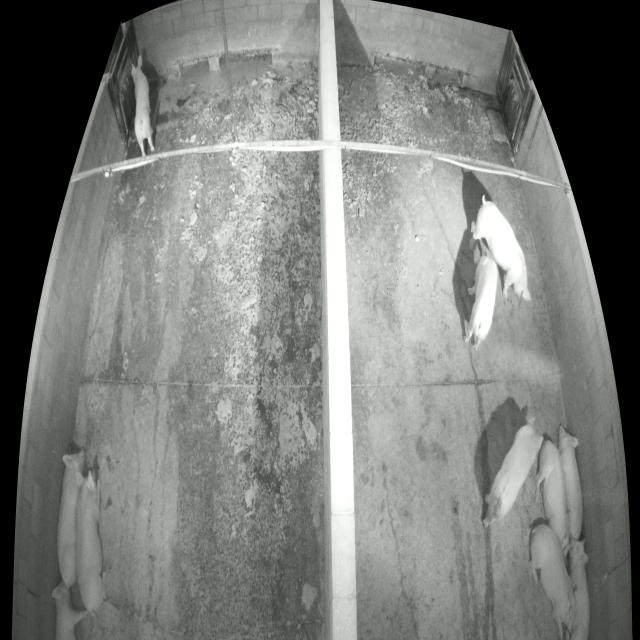pig: (482, 417, 544, 529), (470, 201, 532, 300), (529, 526, 579, 639), (75, 471, 106, 612), (534, 440, 570, 556), (56, 449, 85, 588), (463, 244, 497, 352), (559, 424, 584, 539), (565, 535, 591, 639), (132, 54, 156, 155), (51, 582, 87, 639)
